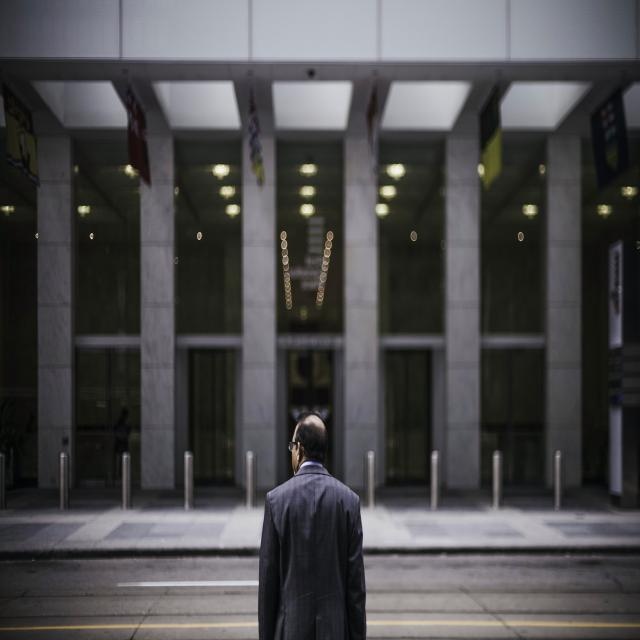adult: (258, 407, 367, 640)
